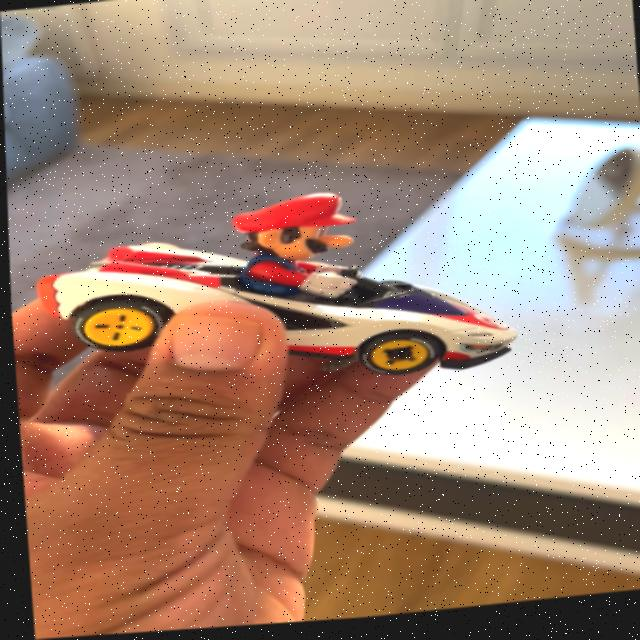mario: (63, 173, 538, 420)
